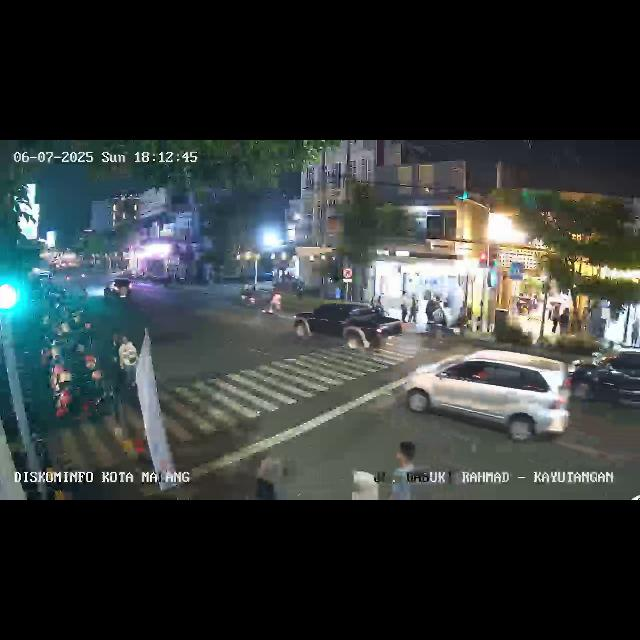car: (400, 350, 570, 446), (568, 352, 640, 422), (303, 302, 399, 351)
motorcycle: (264, 286, 282, 318), (240, 280, 256, 308)
person: (386, 438, 420, 498), (248, 456, 286, 498), (117, 334, 139, 392), (343, 471, 382, 499), (560, 304, 570, 338), (410, 295, 420, 325), (550, 303, 558, 337), (399, 295, 407, 325), (632, 319, 640, 345)
